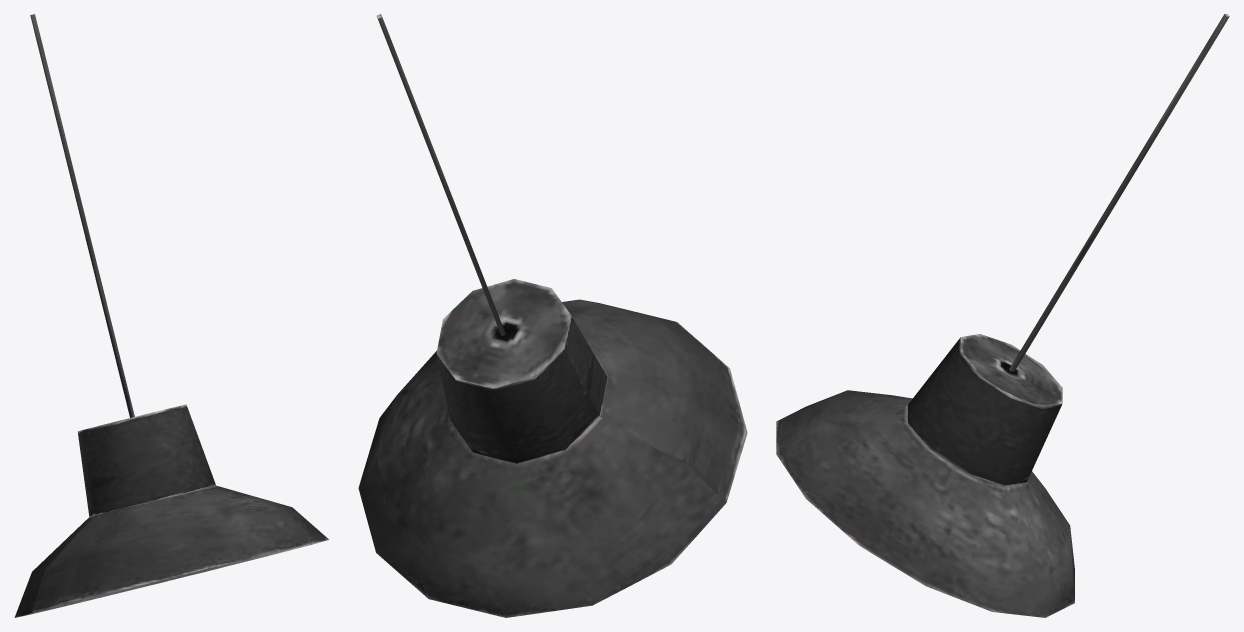
Rendered from Ceiling Light.fbx.
3 views of the same model, side by side, from view 1: azimuth 30°, elevation 25°; view 2: azimuth 150°, elevation 25°; view 3: azimuth 270°, elevation 25° (orthographic). The views are drawn at different scales.
Visible parts, largest first — view 1: Ceiling Light; view 2: Ceiling Light; view 3: Ceiling Light.
Part boxes in pixels (x1,y1,x2,y2): Ceiling Light: (14, 14, 328, 617); Ceiling Light: (358, 14, 747, 617); Ceiling Light: (776, 14, 1229, 617).
Size of the model in its own units: 0.5836 by 1.06 by 0.7568.
1 material, 1 textured.
